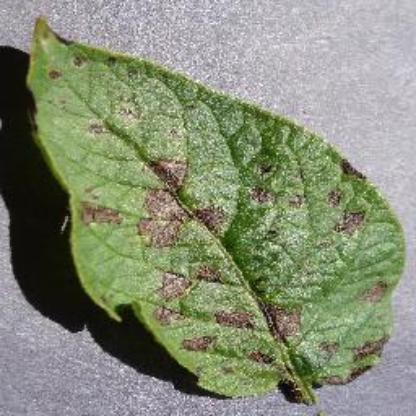Early-Blight: (17, 9, 416, 412)
